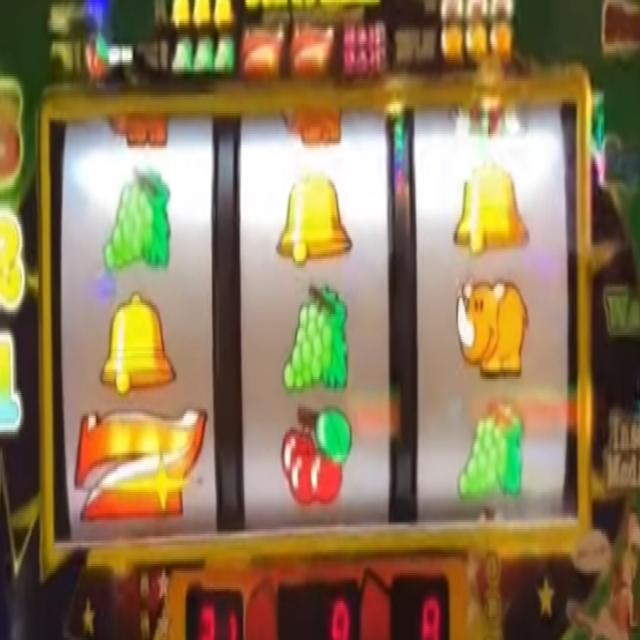bar: (340, 23, 384, 78)
bell: (100, 286, 175, 398), (453, 161, 526, 261), (278, 166, 349, 267), (214, 0, 235, 29), (172, 0, 190, 30), (193, 0, 210, 29)
cherry: (282, 406, 348, 506), (84, 33, 108, 77)
clown: (450, 101, 524, 147)
display: (48, 100, 581, 530)
elephant: (457, 282, 529, 374), (281, 106, 342, 148), (107, 112, 170, 150), (489, 20, 514, 63), (465, 21, 488, 63), (441, 26, 464, 66)
grape: (102, 167, 170, 276), (285, 281, 348, 394), (457, 402, 524, 499), (172, 36, 193, 73), (213, 39, 234, 76), (193, 37, 212, 76)
z: (76, 415, 204, 523), (241, 29, 286, 80), (289, 34, 335, 82)
